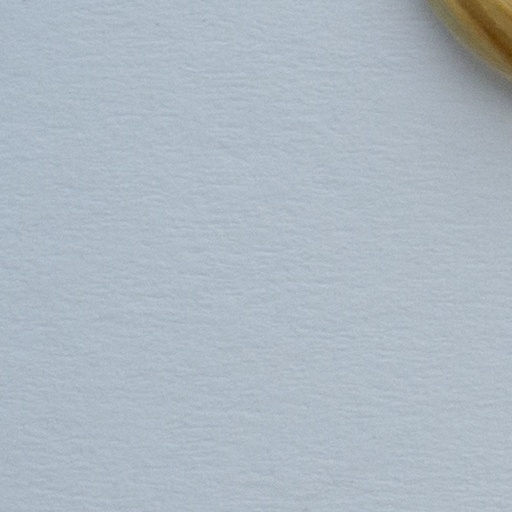Peel-poly: (426, 0, 511, 80)
